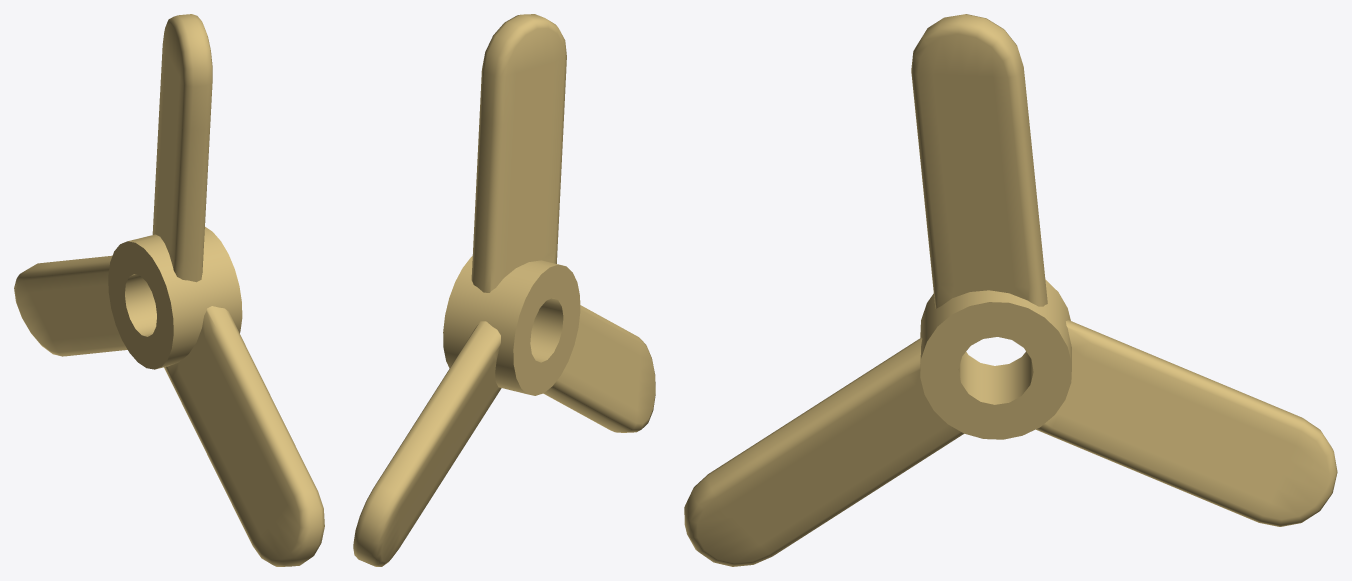
3 views of the same model, side by side, from view 1: azimuth 30°, elevation 25°; view 2: azimuth 150°, elevation 25°; view 3: azimuth 270°, elevation 25° (orthographic). The views are drawn at different scales.
Parts seen in each view (by area): view 1: Part.052; view 2: Part.052; view 3: Part.052.
Boxes of the visible parts, bbox=[...] form: Part.052: bbox=[14, 14, 324, 566]; Part.052: bbox=[353, 14, 655, 566]; Part.052: bbox=[684, 14, 1337, 566].
Size of the model in its own units: 79.92 by 526 by 567.
